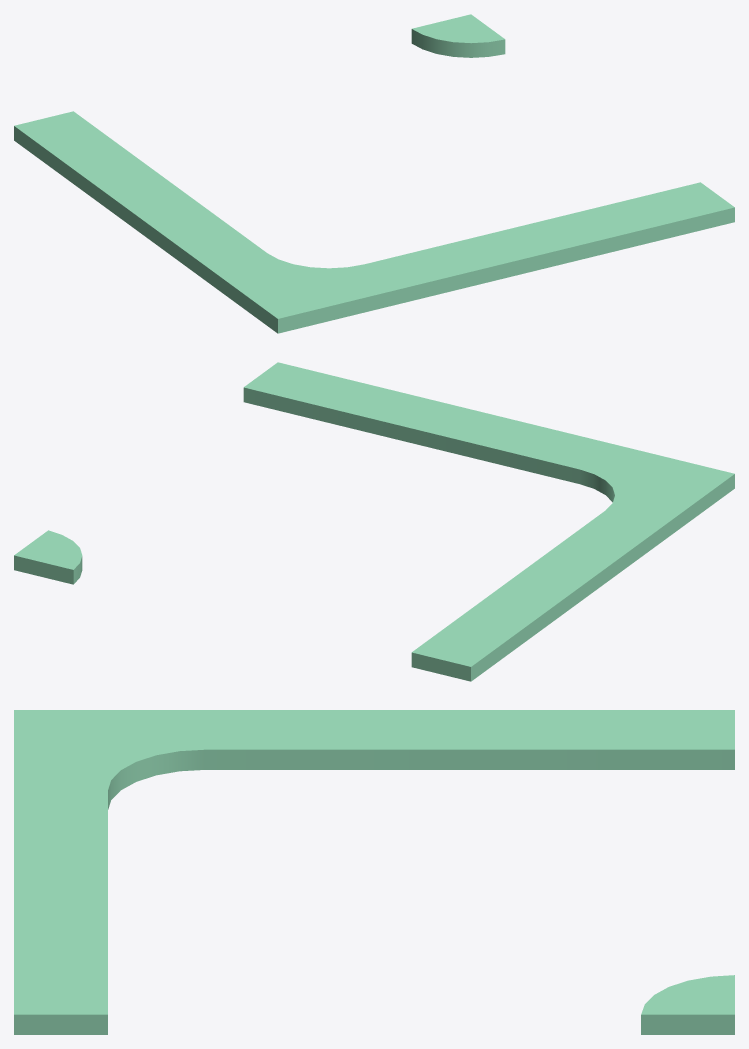
Rendered from ground_grass_corner.fbx.
3 renders of one model, top to bottom at view 1: azimuth 30°, elevation 25°; view 2: azimuth 150°, elevation 25°; view 3: azimuth 270°, elevation 25°, orthographic. The views are drawn at different scales.
Parts seen in each view (by area): view 1: ground_grass_corner; view 2: ground_grass_corner; view 3: ground_grass_corner.
Part boxes in pixels (x1,y1,x2,y2): ground_grass_corner: [14, 14, 734, 333]; ground_grass_corner: [14, 362, 734, 681]; ground_grass_corner: [14, 710, 734, 1034].
Size of the model in its own units: 200 by 6.16 by 200.
